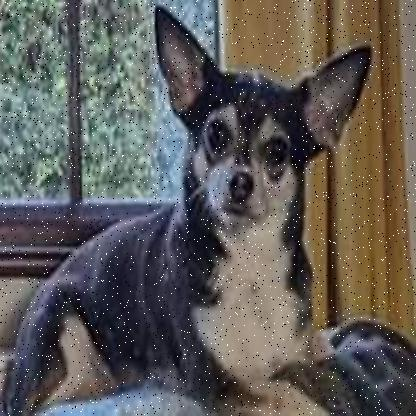dog: (9, 2, 374, 412)
